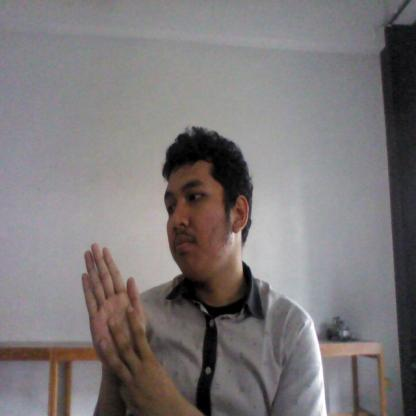M: (73, 238, 162, 413)
